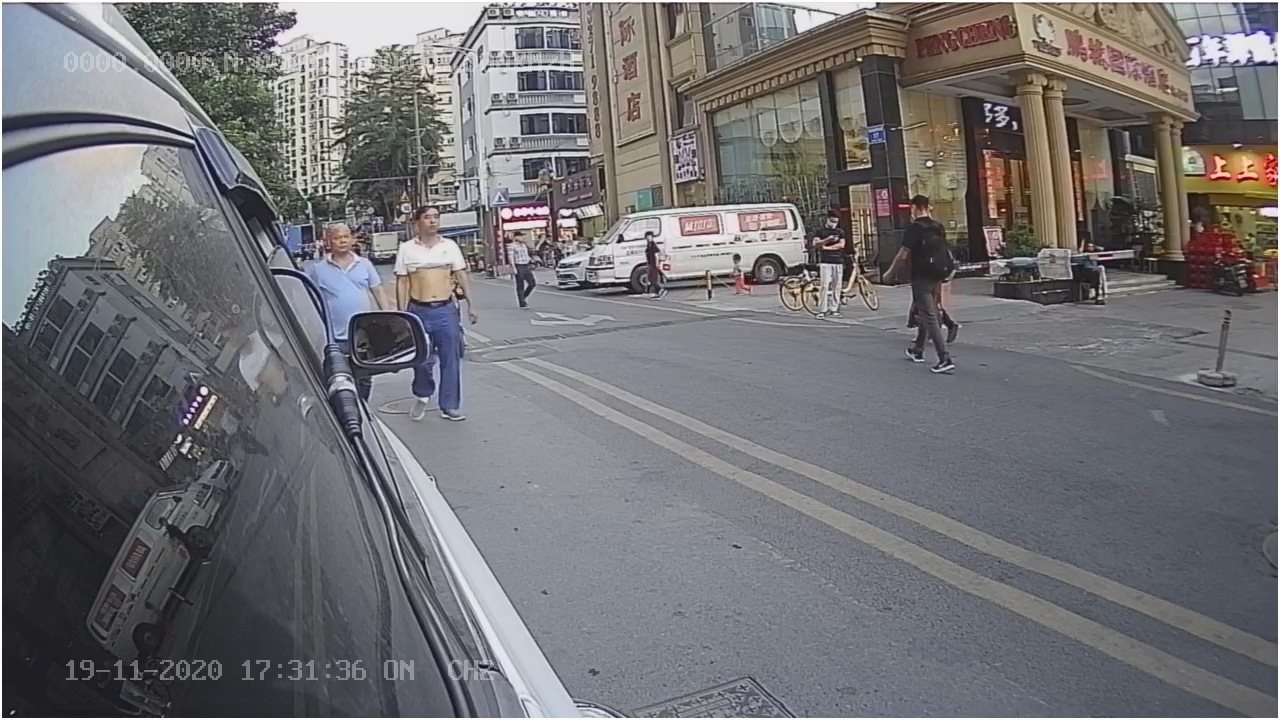person: (391, 201, 474, 302)
